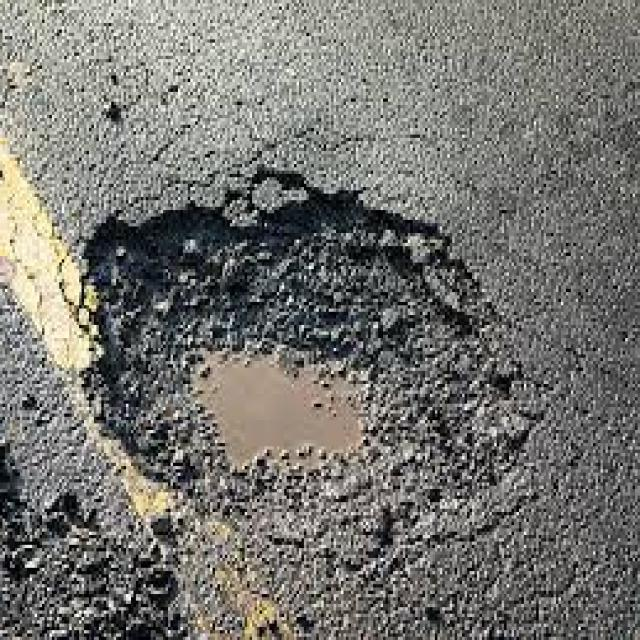Pothole: (68, 159, 533, 533)
